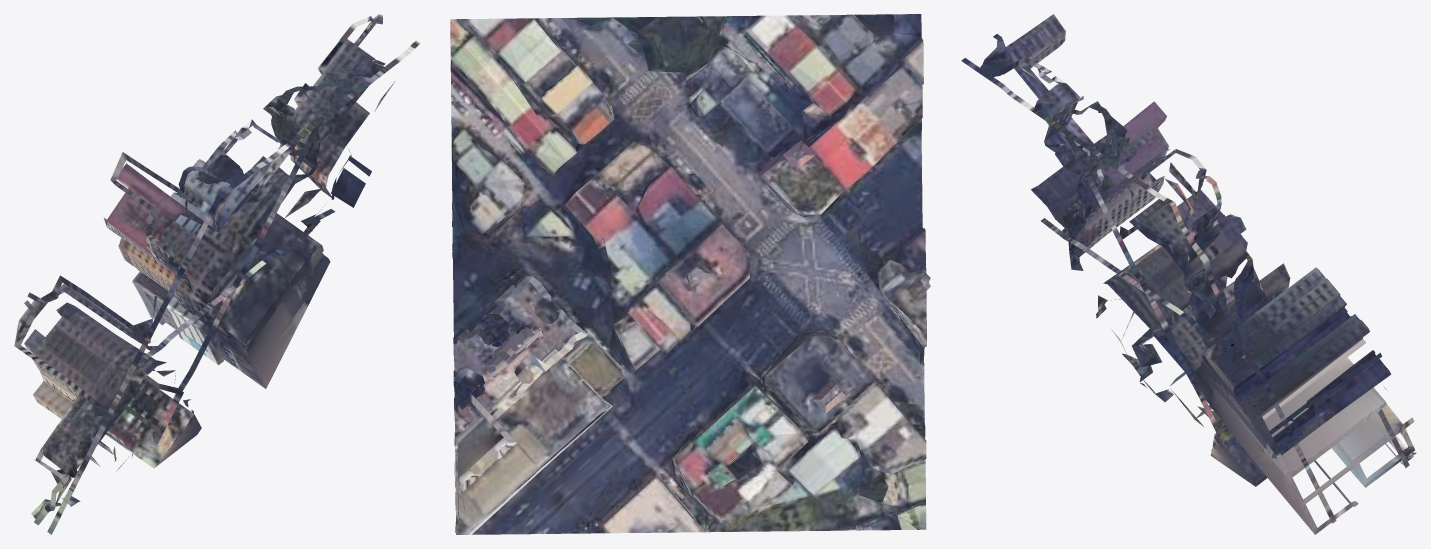
3 renders of one model, left to right at view 1: azimuth 30°, elevation 25°; view 2: azimuth 150°, elevation 25°; view 3: azimuth 270°, elevation 25°, orthographic. The views are drawn at different scales.
Size of the model in its own units: 159 by 149 by 158.
Materials: 2 (2 with a texture image).
